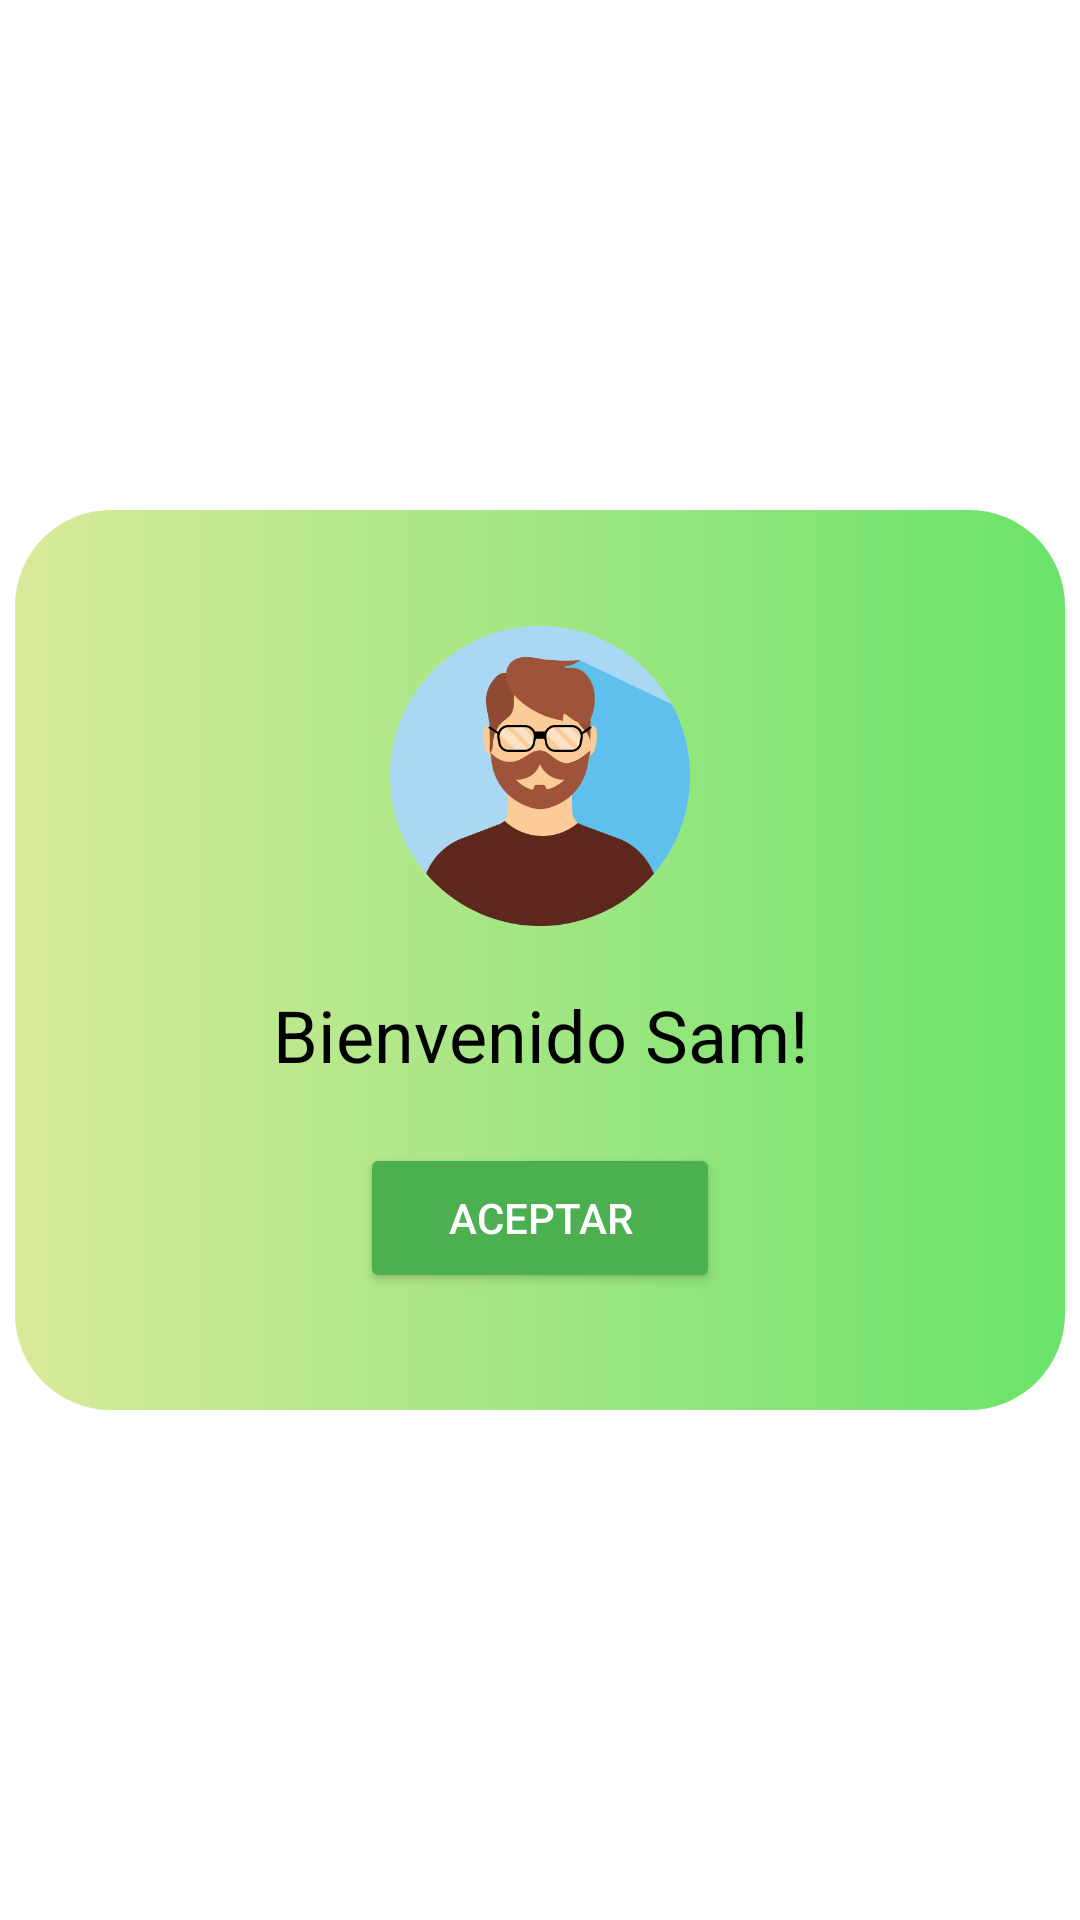

Locate icon controls on the screen. Image size 1080 x 1920, boxes as region(x1, y1, x2, y2).
man: region(390, 626, 690, 926)
